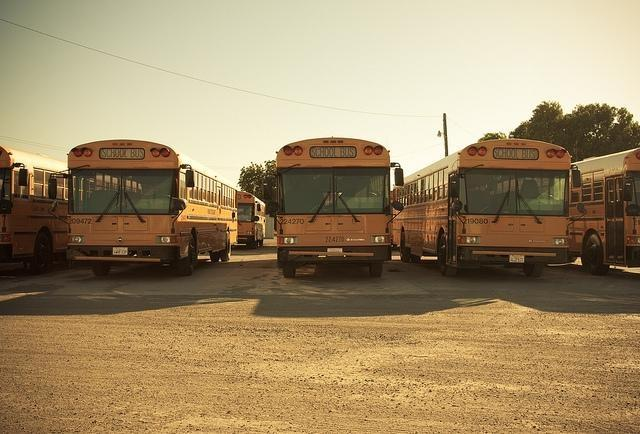bus: (395, 135, 575, 284), (67, 140, 239, 276), (274, 137, 406, 278), (3, 148, 69, 278), (574, 150, 639, 276), (236, 191, 266, 248)
